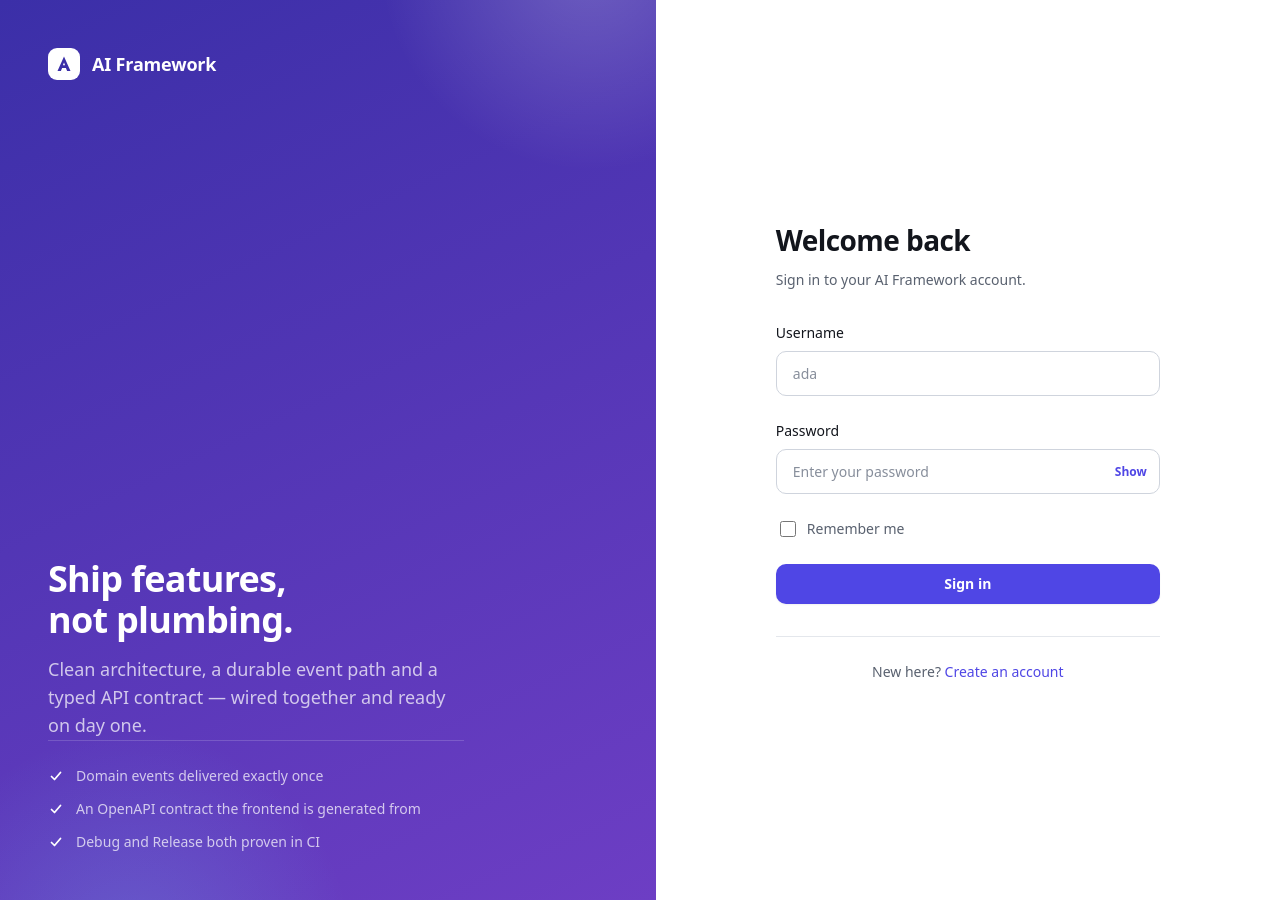
Test case: LoginPage › shows a server field error against the field it belongs to
Type "nobody" into the field labelled "Username".
click(968, 373); type("nobody")  # box [776,350,1160,396]
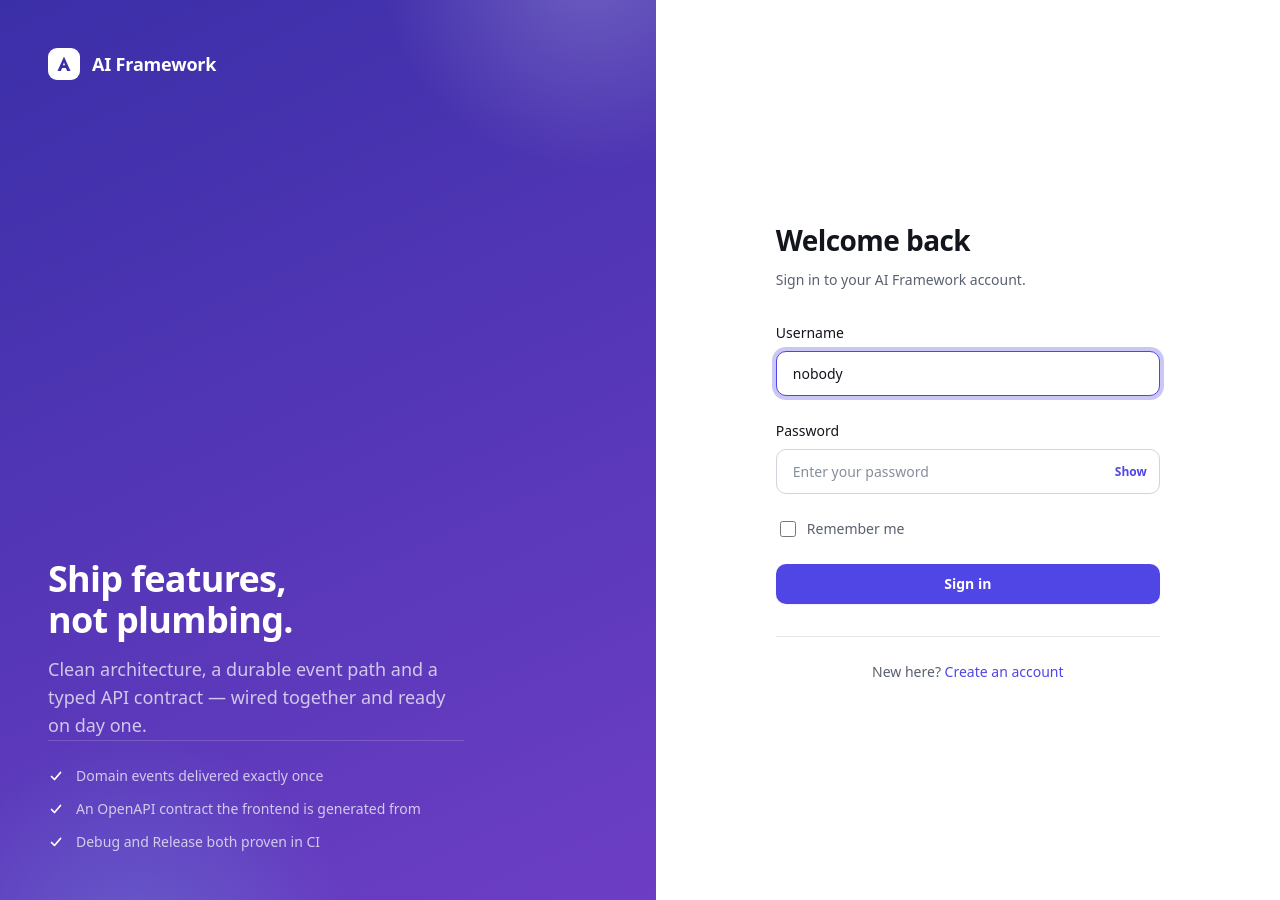
Type "correct horse" into the password field labelled "Password".
click(968, 471); type("correct horse")  # box [776,448,1160,494]
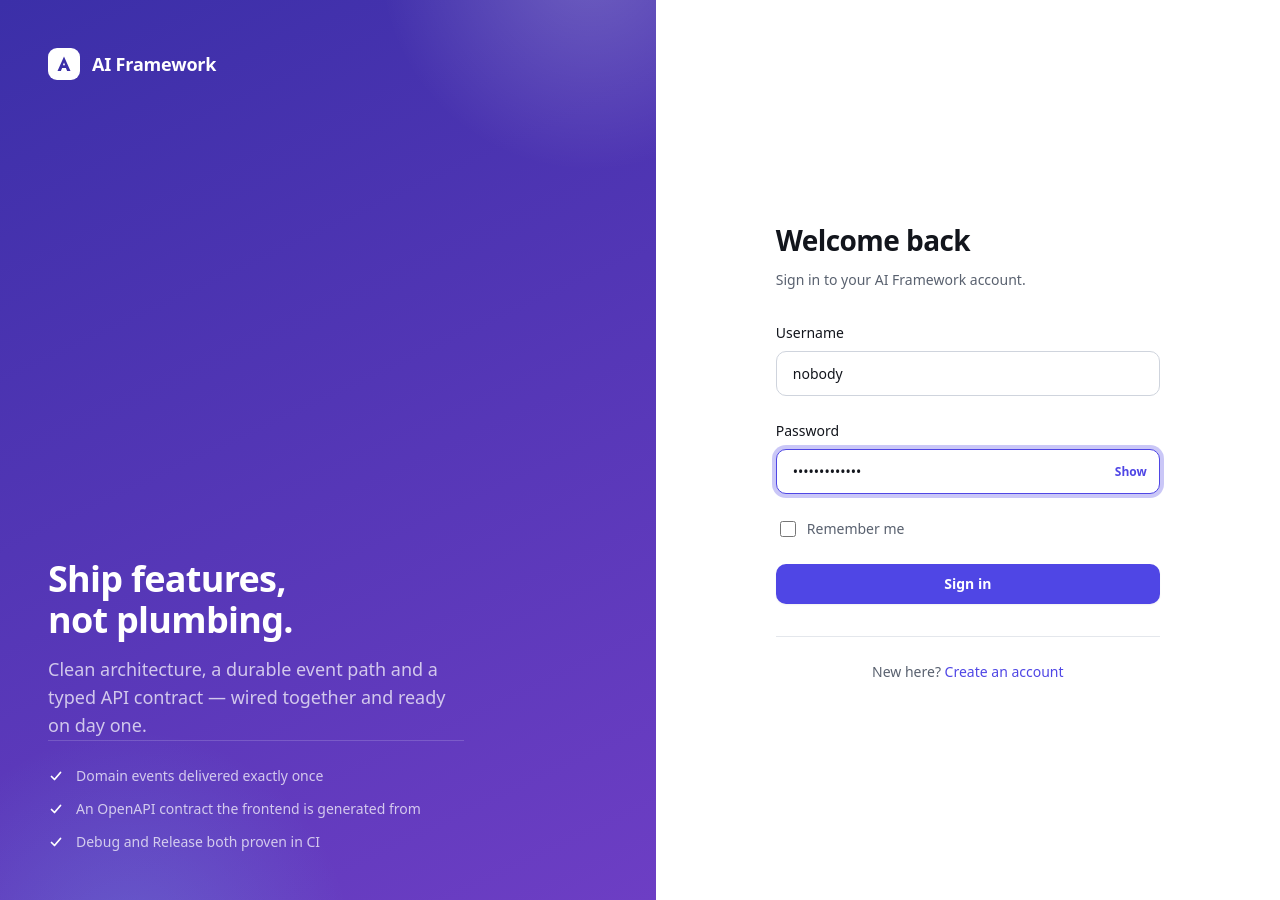
Click the button "Sign in".
click(968, 584)  # box [776,564,1160,604]
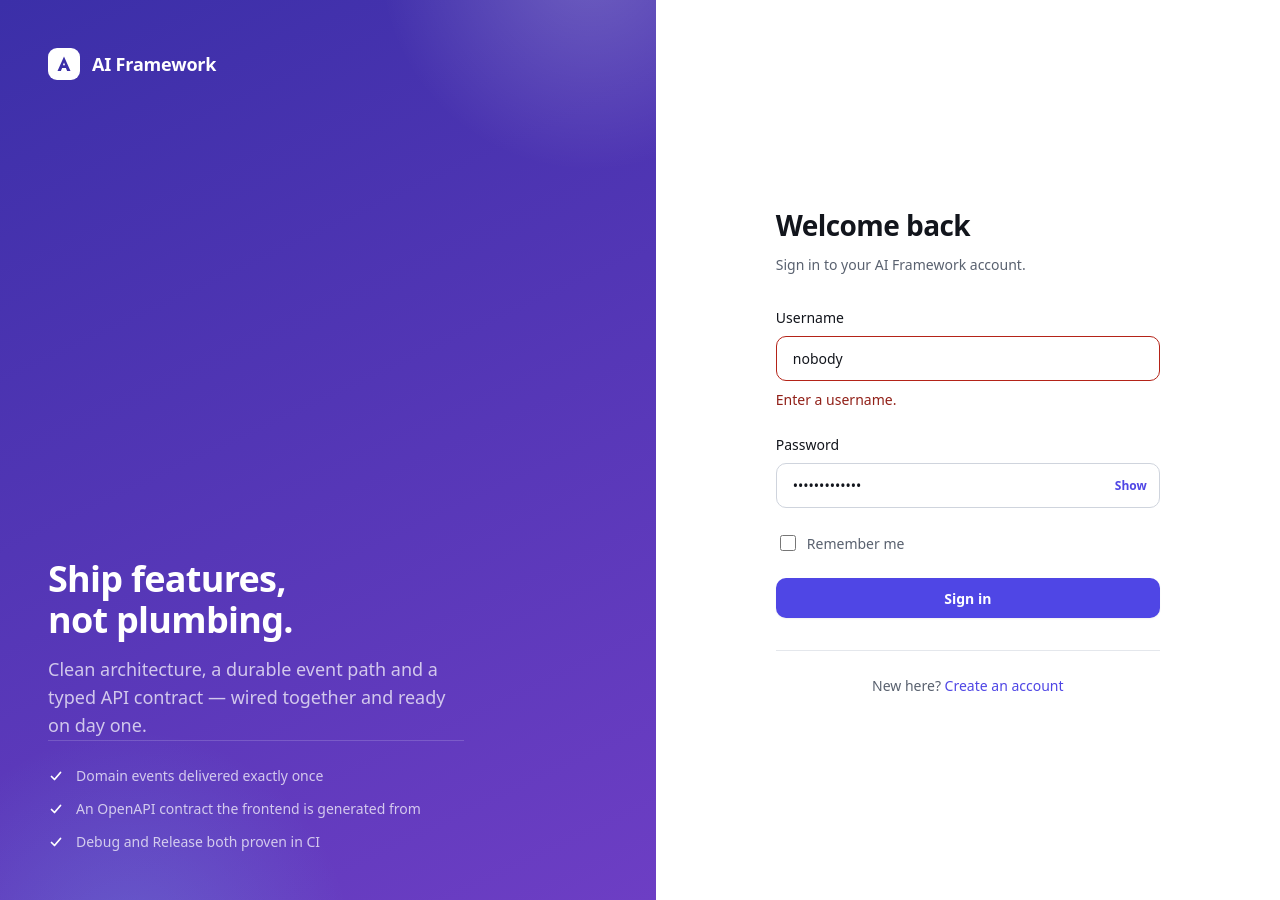
expect the text "Enter a username." is shown: met, box [776,390,896,409]
